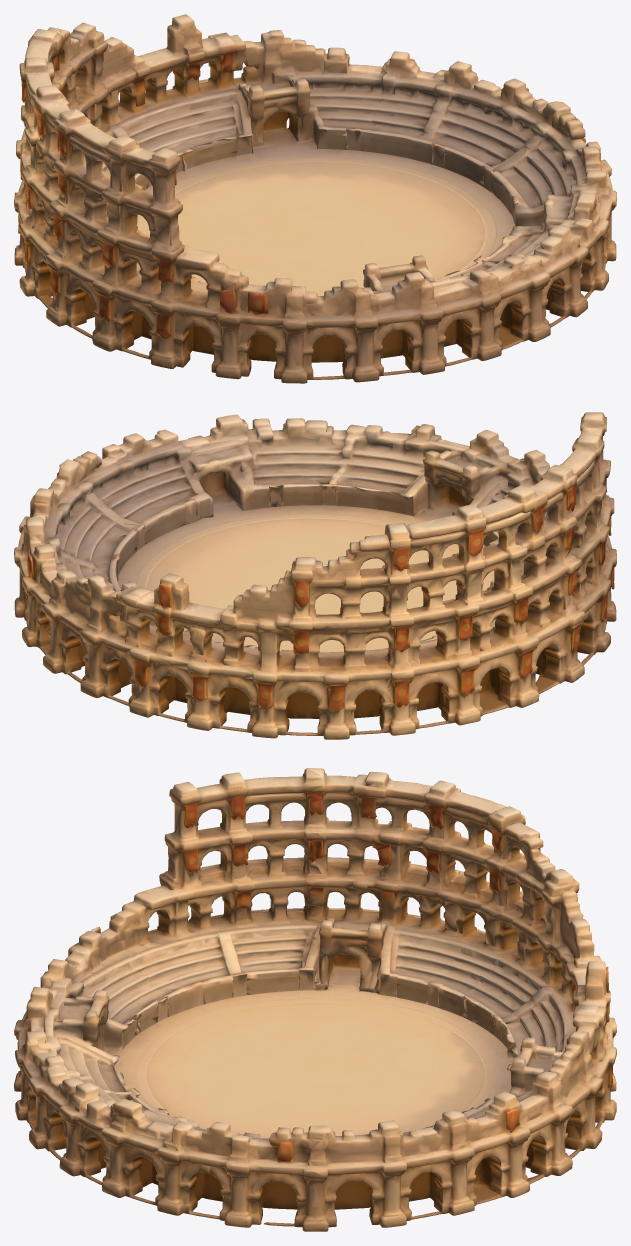
Rendered from colosseum-prepared-v01.glb.
3 renders of one model, top to bottom at view 1: azimuth 30°, elevation 25°; view 2: azimuth 150°, elevation 25°; view 3: azimuth 270°, elevation 25°, orthographic.
Visible parts, largest first — view 1: SM_Arena_Floor, SM_Arena_Shell_04, SM_Arena_Shell_01, SM_Arena_Shell_05, SM_Arena_Shell_00, SM_Arena_Shell_06, SM_Arena_Shell_02, SM_Arena_Shell_03, SM_Arena_Shell_07; view 2: SM_Arena_Shell_03, SM_Arena_Shell_02, SM_Arena_Floor, SM_Arena_Shell_01, SM_Arena_Shell_07, SM_Arena_Shell_06, SM_Arena_Shell_00, SM_Arena_Shell_04, SM_Arena_Shell_05; view 3: SM_Arena_Floor, SM_Arena_Shell_03, SM_Arena_Shell_04, SM_Arena_Shell_00, SM_Arena_Shell_07, SM_Arena_Shell_02, SM_Arena_Shell_01, SM_Arena_Shell_06, SM_Arena_Shell_05.
Boxes of the visible parts, x1=… form: SM_Arena_Floor: x1=137, y1=148, x2=515, y2=295; SM_Arena_Shell_04: x1=47, y1=109, x2=253, y2=379; SM_Arena_Shell_01: x1=170, y1=14, x2=388, y2=160; SM_Arena_Shell_05: x1=239, y1=255, x2=466, y2=383; SM_Arena_Shell_00: x1=364, y1=51, x2=568, y2=189; SM_Arena_Shell_06: x1=435, y1=206, x2=604, y2=361; SM_Arena_Shell_02: x1=47, y1=17, x2=221, y2=190; SM_Arena_Shell_03: x1=14, y1=29, x2=108, y2=321; SM_Arena_Shell_07: x1=488, y1=106, x2=616, y2=289; SM_Arena_Shell_03: x1=376, y1=466, x2=584, y2=735; SM_Arena_Shell_02: x1=166, y1=534, x2=392, y2=739; SM_Arena_Floor: x1=117, y1=505, x2=494, y2=652; SM_Arena_Shell_01: x1=27, y1=560, x2=212, y2=718; SM_Arena_Shell_07: x1=73, y1=414, x2=265, y2=547; SM_Arena_Shell_06: x1=242, y1=418, x2=458, y2=516; SM_Arena_Shell_00: x1=14, y1=459, x2=143, y2=645; SM_Arena_Shell_04: x1=521, y1=412, x2=616, y2=678; SM_Arena_Shell_05: x1=414, y1=429, x2=550, y2=546; SM_Arena_Floor: x1=114, y1=990, x2=513, y2=1138; SM_Arena_Shell_03: x1=306, y1=768, x2=525, y2=1015; SM_Arena_Shell_04: x1=109, y1=768, x2=323, y2=1014; SM_Arena_Shell_00: x1=306, y1=1091, x2=530, y2=1231; SM_Arena_Shell_07: x1=101, y1=1098, x2=326, y2=1231; SM_Arena_Shell_02: x1=456, y1=822, x2=616, y2=1091; SM_Arena_Shell_01: x1=462, y1=961, x2=616, y2=1190; SM_Arena_Shell_06: x1=15, y1=1025, x2=170, y2=1185; SM_Arena_Shell_05: x1=14, y1=920, x2=175, y2=1091.
Bounding box in the file's own units: 19.8 × 7.33 × 19.21.
1 material, 1 textured.
